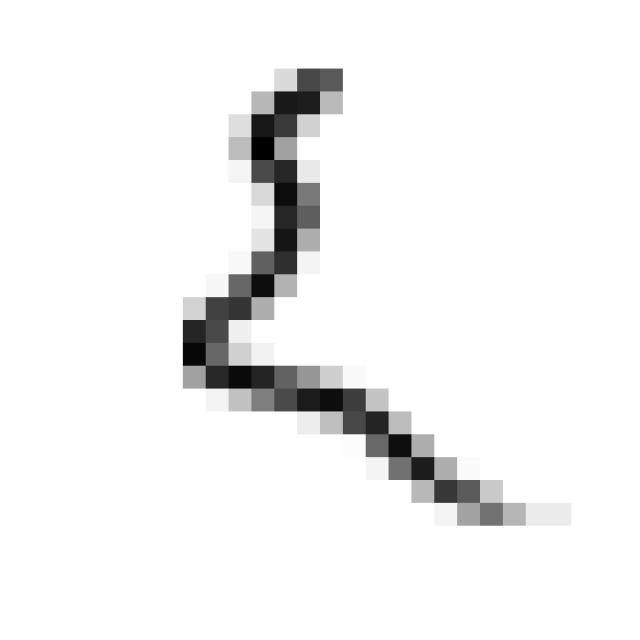4 -four-: (160, 48, 541, 547)
